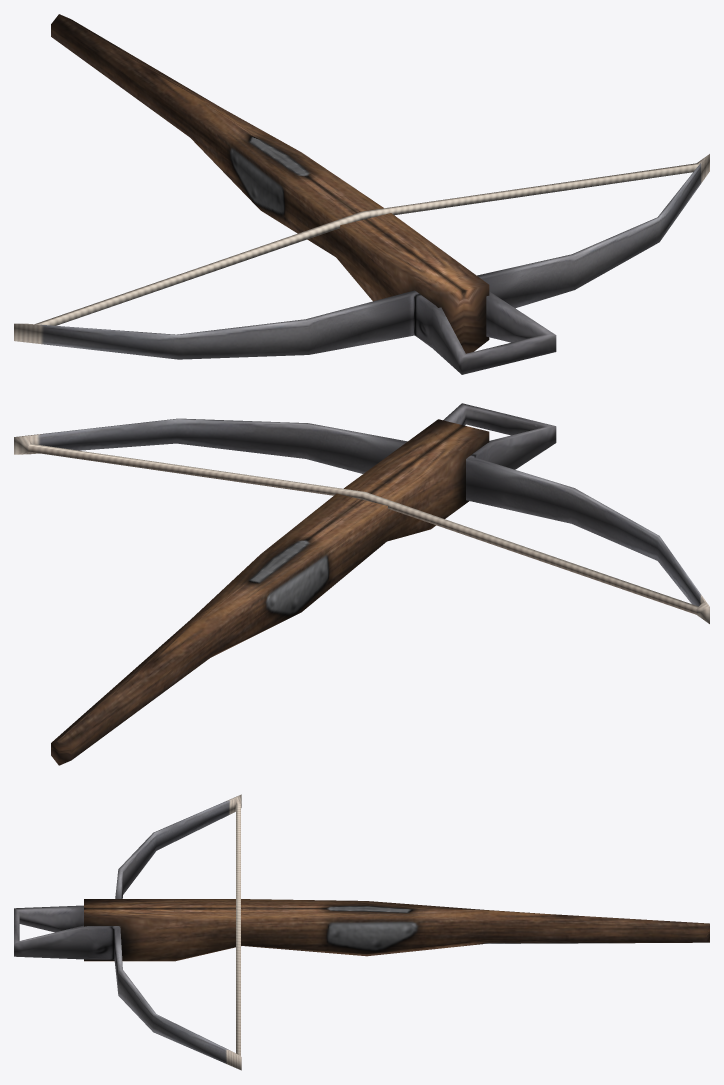
Rendered from balestra.glb.
3 renders of one model, top to bottom at view 1: azimuth 30°, elevation 25°; view 2: azimuth 150°, elevation 25°; view 3: azimuth 270°, elevation 25°, orthographic. The views are drawn at different scales.
Parts seen in each view (by area): view 1: crossbow_1; view 2: crossbow_1; view 3: crossbow_1.
Boxes of the visible parts, bbox=[...] form: crossbow_1: bbox=[14, 14, 709, 374]; crossbow_1: bbox=[14, 403, 709, 765]; crossbow_1: bbox=[14, 794, 709, 1070].
Size of the model in its own units: 1.8 by 0.1818 by 2.01.
Materials: 1 (1 with a texture image).
